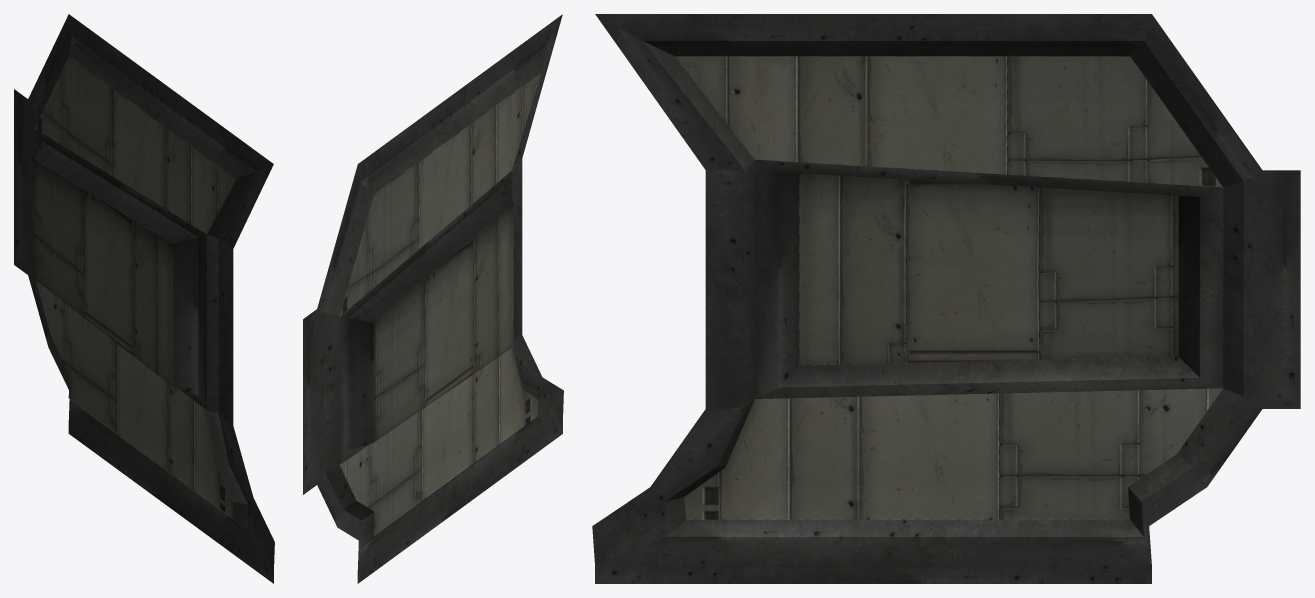
File: SciFiWallEX.fbx
3 views of the same model, side by side, from view 1: azimuth 30°, elevation 25°; view 2: azimuth 150°, elevation 25°; view 3: azimuth 270°, elevation 25° (orthographic). The views are drawn at different scales.
Visible parts, largest first — view 1: Cube_009_001; view 2: Cube_009_001; view 3: Cube_009_001.
Part boxes in pixels (x1,y1,x2,y2): Cube_009_001: (14, 14, 274, 583); Cube_009_001: (303, 14, 563, 583); Cube_009_001: (592, 14, 1300, 583).
Bounding box in the file's own units: 0.1468 × 2.27 × 2.56.
